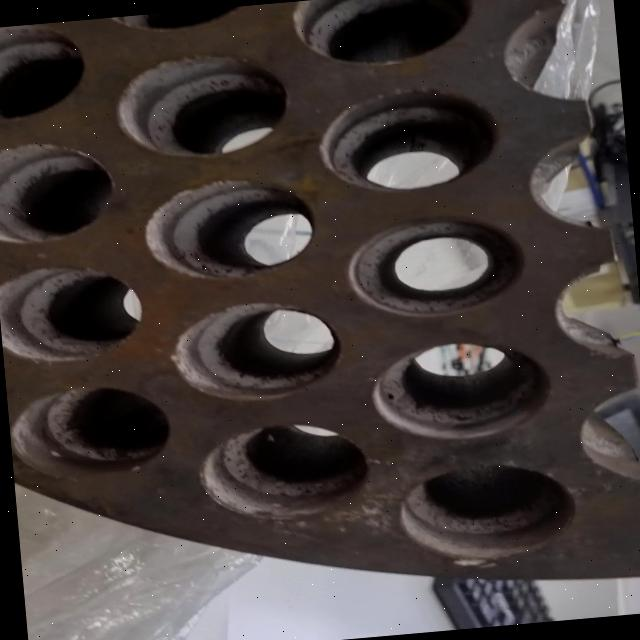Hole: (312, 82, 502, 198), (110, 46, 293, 164), (341, 212, 529, 326), (366, 334, 554, 447), (395, 457, 579, 570), (138, 171, 318, 286), (166, 294, 346, 408), (194, 417, 373, 526), (6, 379, 174, 482), (0, 259, 144, 368), (289, 0, 479, 71), (0, 135, 117, 246), (0, 19, 90, 122), (90, 4, 260, 38)
